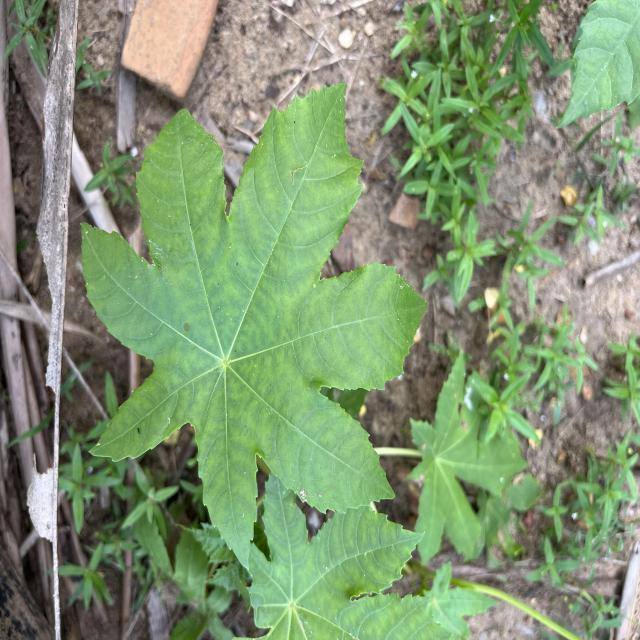Ricinus communis linn: (72, 78, 434, 578)
